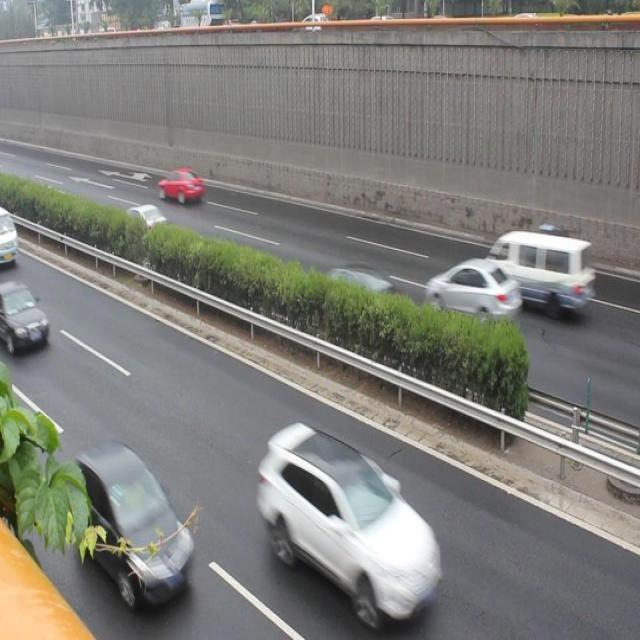car: (256, 425, 445, 613), (68, 437, 199, 604), (425, 256, 521, 337), (313, 260, 402, 324), (0, 278, 54, 360), (118, 198, 166, 244), (158, 165, 205, 205)
truck: (484, 220, 596, 318)
